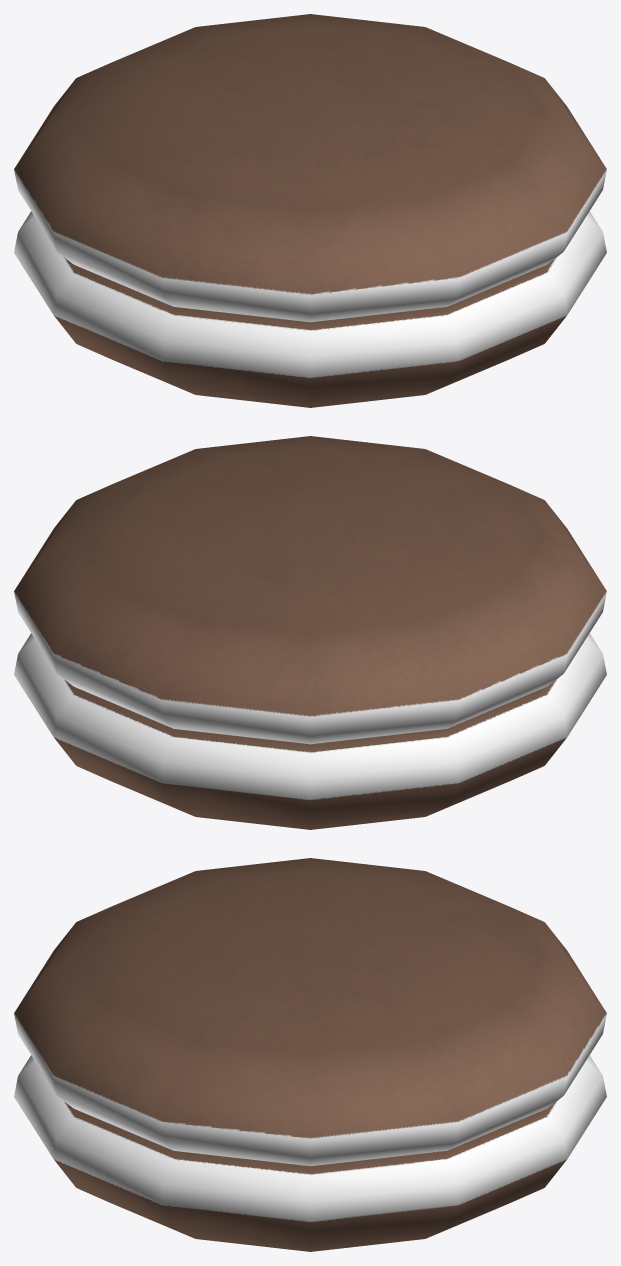
Rendered from donuts.fbx.
3 renders of one model, top to bottom at view 1: azimuth 30°, elevation 25°; view 2: azimuth 150°, elevation 25°; view 3: azimuth 270°, elevation 25°, orthographic.
Visible parts, largest first — view 1: donuts_geo; view 2: donuts_geo; view 3: donuts_geo.
Boxes of the visible parts, box(x1,y1,x2,y2) form: donuts_geo: box(14, 14, 606, 407); donuts_geo: box(14, 436, 606, 829); donuts_geo: box(14, 858, 606, 1251).
Size of the model in its own units: 2 by 0.9426 by 2.
1 material, 1 textured.
